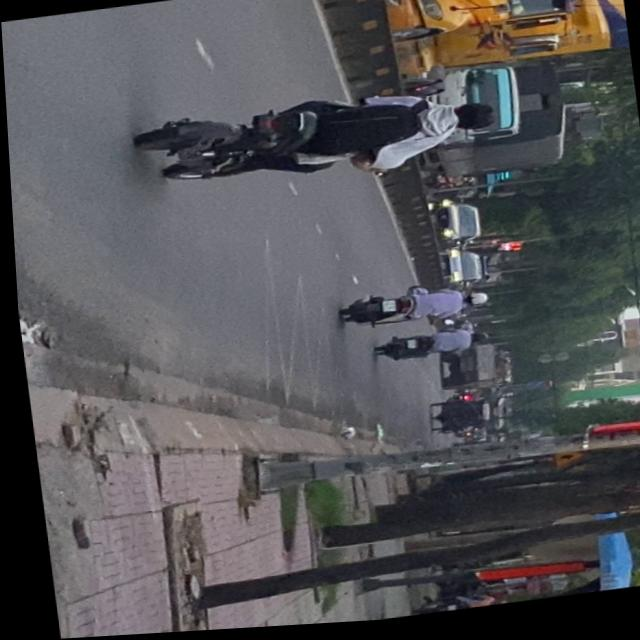licenseplate: (122, 76, 506, 204)
motorcyclist: (443, 103, 497, 139)
